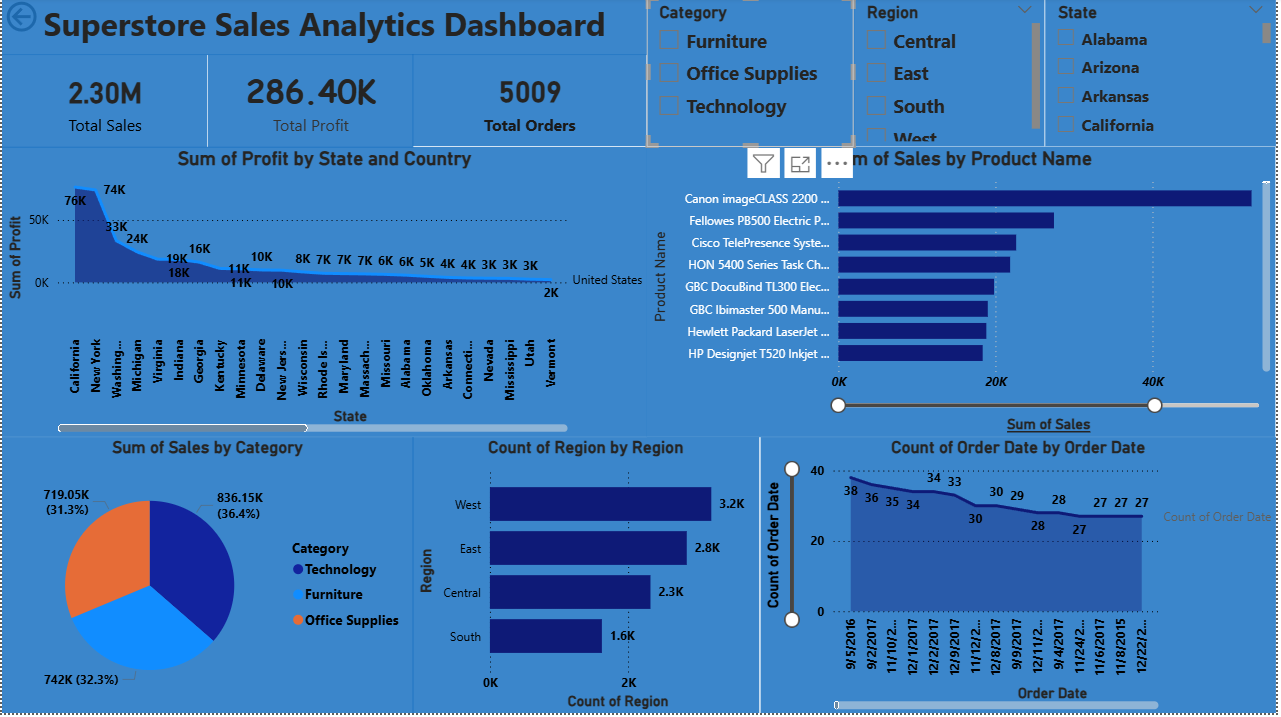

This screenshot's page, from the dashboard's own definition file:
{"tool":"powerbi","page":{"name":"Page 1","canvas":[1280,720],"ordinal":0},"visuals":[{"type":"card","fields":{"Values":["Sum(Sample - Superstore.Sales)"]},"box":[0,58.3,206.7,93.3],"z":0},{"type":"card","fields":{"Values":["Sum(Sample - Superstore.Profit)"]},"box":[206.7,58.3,206.7,93.3],"z":1000},{"type":"clusteredBarChart","fields":{"Y":["CountNonNull(Sample - Superstore.Region)"],"Category":["Sample - Superstore.Region"]},"box":[413.3,441.7,348.3,278.3],"z":2000},{"type":"pieChart","fields":{"Category":["Sample - Superstore.Category"],"Y":["Sum(Sample - Superstore.Sales)"]},"box":[0,441.7,413.3,278.3],"z":3000},{"type":"lineChart","fields":{"Category":["Sample - Superstore.Order Date"],"Y":["CountNonNull(Sample - Superstore.Order Date)"]},"box":[761.7,441.7,518.3,278.3],"z":4000},{"type":"barChart","fields":{"Category":["Sample - Superstore.Product Name"],"Y":["Sum(Sample - Superstore.Sales)"]},"box":[648.3,150,631.7,291.7],"z":5000},{"type":"slicer","fields":{"Values":["Sample - Superstore.Region"]},"box":[856.7,0,191.7,150],"z":6000},{"type":"slicer","fields":{"Values":["Sample - Superstore.Category"]},"box":[648.3,0,208.3,150],"z":7000},{"type":"slicer","fields":{"Values":["Sample - Superstore.State"]},"box":[1048.3,0,231.7,150],"z":7001},{"type":"areaChart","fields":{"Category":["Sample - Superstore.State"],"Series":["Sample - Superstore.Country"],"Y":["Sum(Sample - Superstore.Profit)"]},"box":[0,150,648.3,291.7],"z":7002},{"type":"actionButton","box":[0,0,100,40],"z":7004},{"type":"card","fields":{"Values":["Count(Sample - Superstore.Total Orders)"]},"box":[413.3,58.3,235,91.7],"z":7005},{"type":"textbox","box":[0,0,648.3,58.3],"z":7006}]}

Visuals, with their boxes in screenshot pixels (x1, y1, x2, y2), scaled from the page's 1280x720 canvas onto the 1281x717 screenshot:
card - Sum(Sample - Superstore.Sales): <bbox>0, 58, 207, 151</bbox>
card - Sum(Sample - Superstore.Profit): <bbox>207, 58, 414, 151</bbox>
clusteredBarChart - CountNonNull(Sample - Superstore.Region) x Sample - Superstore.Region: <bbox>414, 440, 762, 716</bbox>
pieChart - Sample - Superstore.Category x Sum(Sample - Superstore.Sales): <bbox>0, 440, 414, 716</bbox>
lineChart - Sample - Superstore.Order Date x CountNonNull(Sample - Superstore.Order Date): <bbox>762, 440, 1280, 716</bbox>
barChart - Sample - Superstore.Product Name x Sum(Sample - Superstore.Sales): <bbox>649, 149, 1280, 440</bbox>
slicer - Sample - Superstore.Region: <bbox>857, 0, 1049, 149</bbox>
slicer - Sample - Superstore.Category: <bbox>649, 0, 857, 149</bbox>
slicer - Sample - Superstore.State: <bbox>1049, 0, 1280, 149</bbox>
areaChart - Sample - Superstore.State x Sample - Superstore.Country: <bbox>0, 149, 649, 440</bbox>
actionButton: <bbox>0, 0, 100, 40</bbox>
card - Count(Sample - Superstore.Total Orders): <bbox>414, 58, 649, 149</bbox>
textbox: <bbox>0, 0, 649, 58</bbox>
